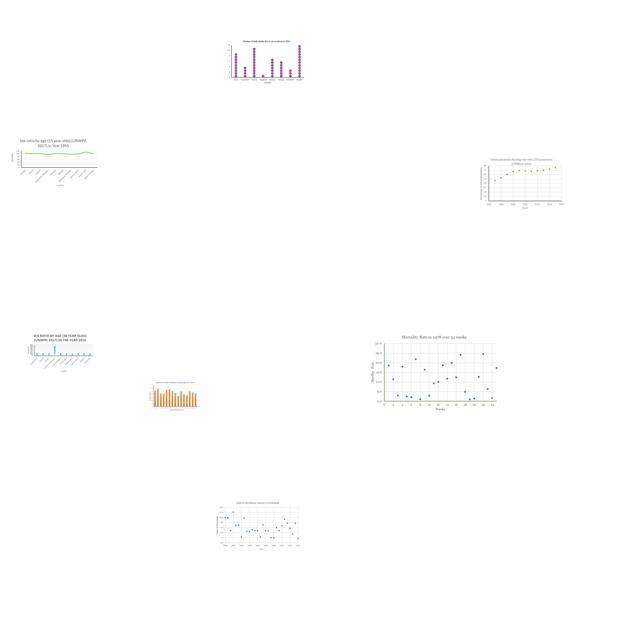Graph: (370, 334, 499, 412), (478, 157, 565, 210), (11, 137, 99, 187), (214, 501, 302, 551), (227, 39, 306, 86), (26, 333, 94, 374), (148, 381, 201, 412)
